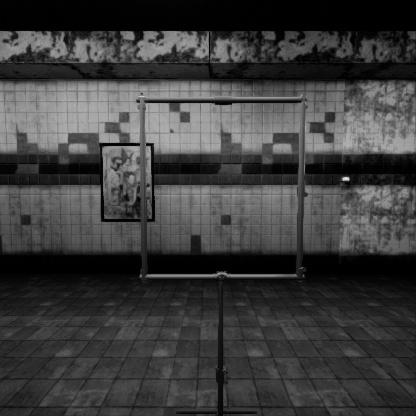gate: (139, 134, 321, 319)
